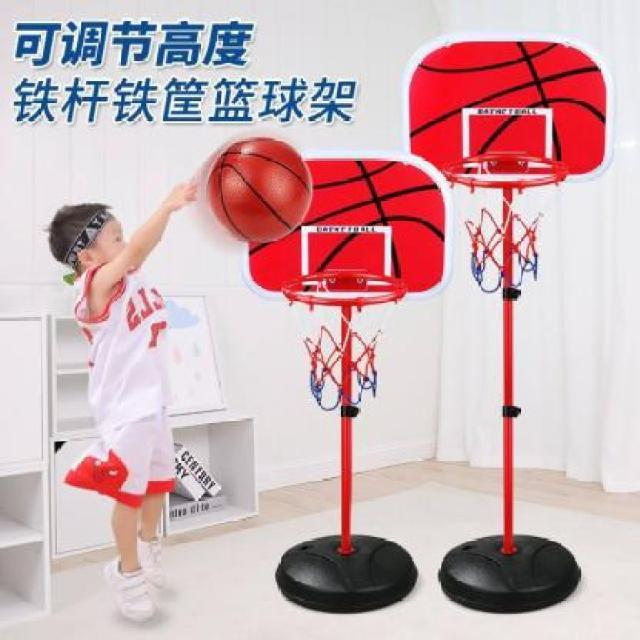basketball: (209, 134, 315, 246)
rim: (284, 272, 408, 406), (444, 154, 564, 290)
